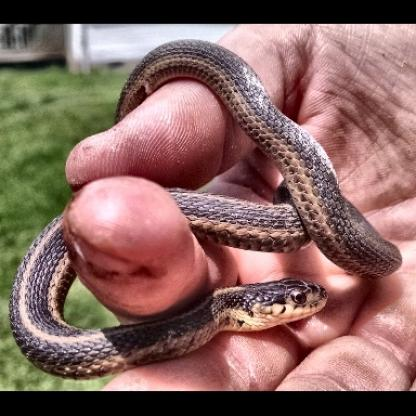Snake: (9, 38, 404, 378)
